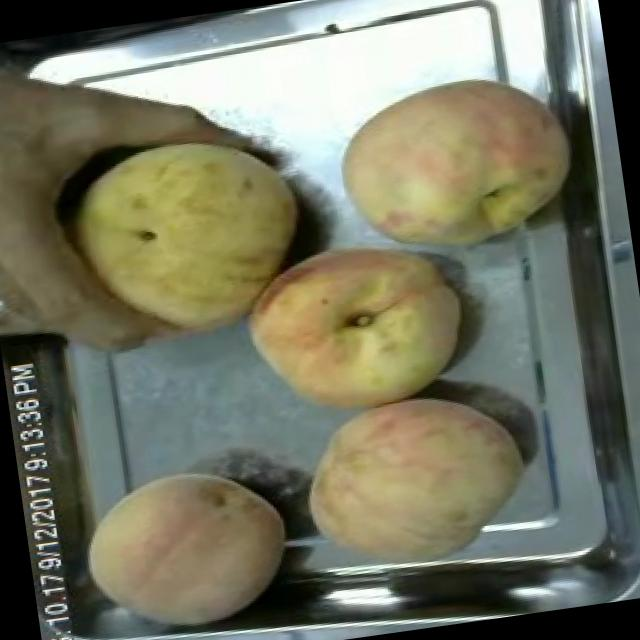Fruit: (42, 108, 328, 378), (323, 54, 594, 274), (284, 375, 544, 594), (230, 214, 480, 426), (66, 445, 305, 640)
